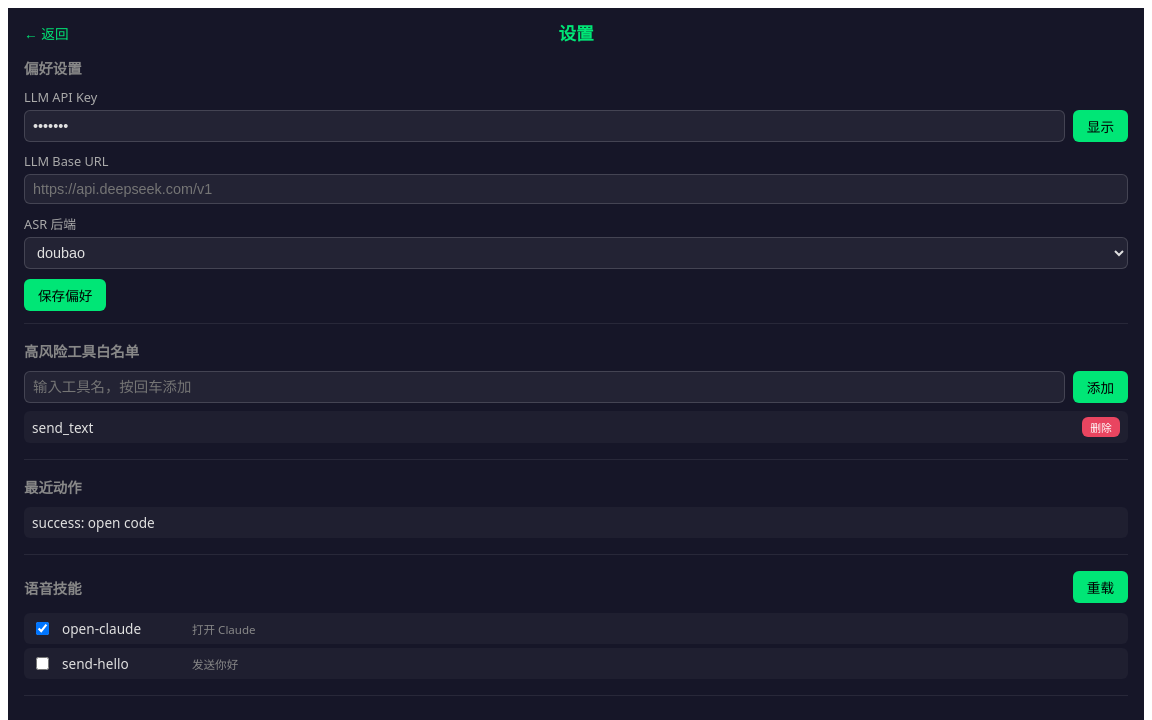
Test case: Settings › disables save and shows error for invalid ASR backend
The width and height of the screenshot is (1152, 720).
Expected: the heading "设置" is shown, [558,21,594,45]
Select "请选择" in the dropdown labelled "ASR 后端" at (576, 253), box [24,237,1128,269]
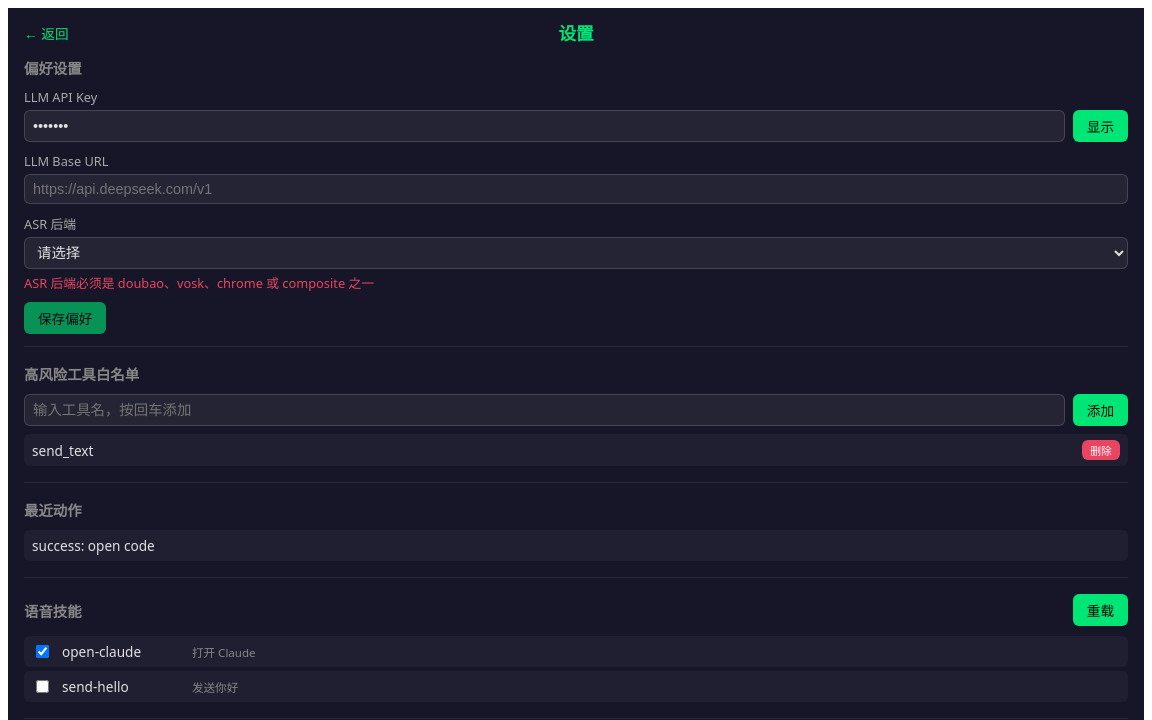
Expected: the text "ASR 后端必须是 doubao、vosk、chrome 或 composite 之一" is shown, [24,274,374,292]
Expected: the button "保存偏好" is disabled, [24,302,106,334]
